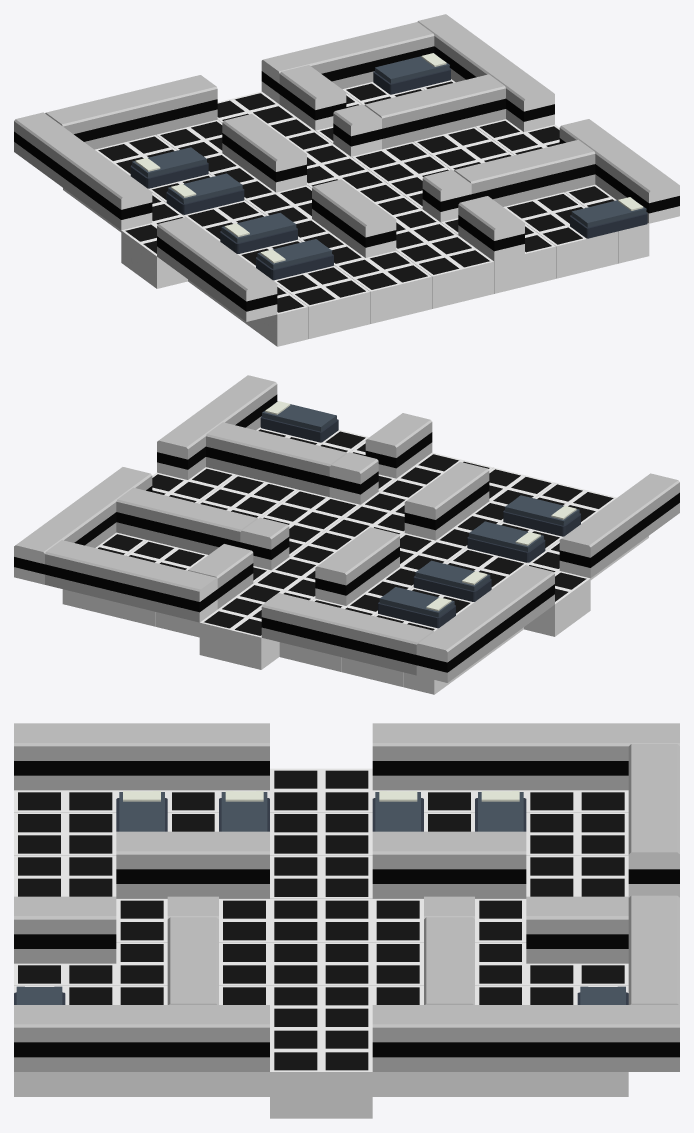
File: bedroomMedium2.fbx
The picture shows the model from 3 angles, top to bottom: view 1: azimuth 30°, elevation 25°; view 2: azimuth 150°, elevation 25°; view 3: azimuth 270°, elevation 25°; orthographic projection. The views are drawn at different scales.
Parts seen in each view (by area): view 1: Cube.014, Cube.236, Cube.007, Cube.237, Cube.159, Cube.158, Cube.181, Cube.197, Cube.183, Cube.011, Cube.200, Cube.216 (+98 smaller); view 2: Cube.236, Cube.159, Cube.014, Cube.007, Cube.158, Cube.005, Cube.179, Cube.199, Cube.187, Cube.009, Cube.168, Cube.202 (+91 smaller); view 3: Cube.008, Cube.006, Cube.175, Cube.184, Cube.197, Cube.217, Cube.005, Cube.174, Cube.177, Cube.181, Cube.182, Cube.183 (+134 smaller).
Part boxes in pixels (x1,y1,x2,y2): Cube.014: (166,173,244,214); Cube.236: (570,197,647,238); Cube.007: (130,147,208,188); Cube.237: (373,53,450,94); Cube.159: (220,212,297,253); Cube.158: (256,239,333,280); Cube.181: (103,178,152,230); Cube.197: (347,205,396,257); Cube.183: (228,269,277,321); Cube.011: (258,140,306,192); Cube.200: (506,79,554,131); Cube.216: (333,104,381,156); Cube.236: (260,401,338,442); Cube.159: (467,521,545,562); Cube.014: (413,560,491,601); Cube.007: (378,587,455,628); Cube.158: (503,495,580,536); Cube.005: (315,553,364,605); Cube.179: (559,525,608,578); Cube.199: (329,452,378,504); Cube.187: (416,630,465,682); Cube.009: (404,488,453,540); Cube.168: (169,570,217,622); Cube.202: (157,427,205,479); Cube.008: (321,1050,372,1118); Cube.006: (270,1050,321,1118); Cube.175: (526,723,577,790); Cube.184: (116,723,167,790); Cube.197: (116,831,167,898); Cube.217: (526,896,577,963); Cube.005: (475,831,526,898); Cube.174: (577,723,628,790); Cube.177: (475,723,526,790); Cube.181: (372,723,423,790); Cube.182: (65,723,116,790); Cube.183: (14,723,65,790).
Size of the model in its own units: 2802 by 400 by 2600.
